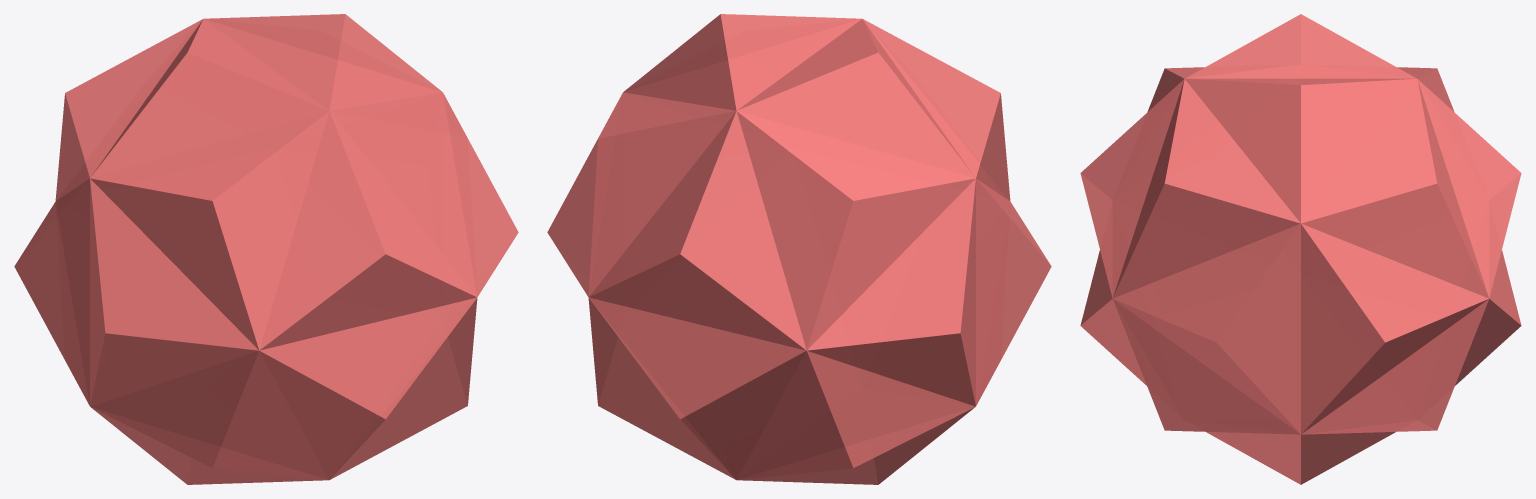
The model's file is SmallTriambicIcosahedron.obj.
3 views of the same model, side by side, from view 1: azimuth 30°, elevation 25°; view 2: azimuth 150°, elevation 25°; view 3: azimuth 270°, elevation 25° (orthographic). The views are drawn at different scales.
Bounding box in the file's own units: 1.45 × 1.45 × 1.45.
